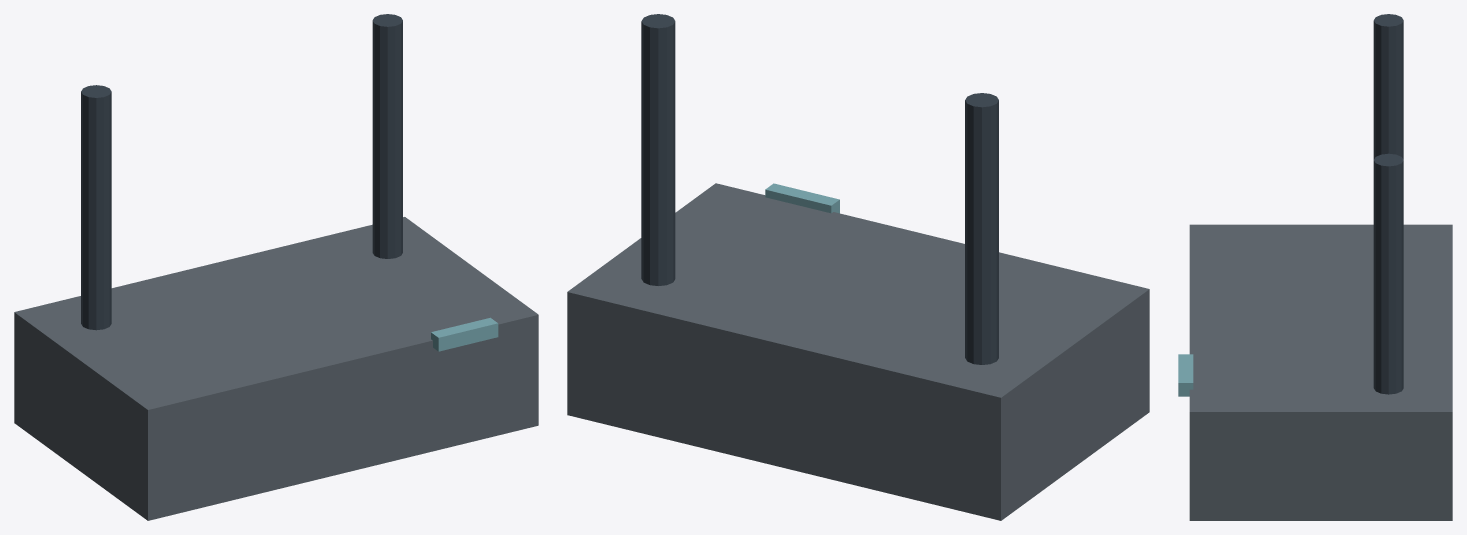
Rendered from tecnologia_router.glb.
The picture shows the model from 3 angles, left to right: view 1: azimuth 30°, elevation 25°; view 2: azimuth 150°, elevation 25°; view 3: azimuth 270°, elevation 25°; orthographic projection. The views are drawn at different scales.
Size of the model in its own units: 0.59 by 0.495 by 0.365.
